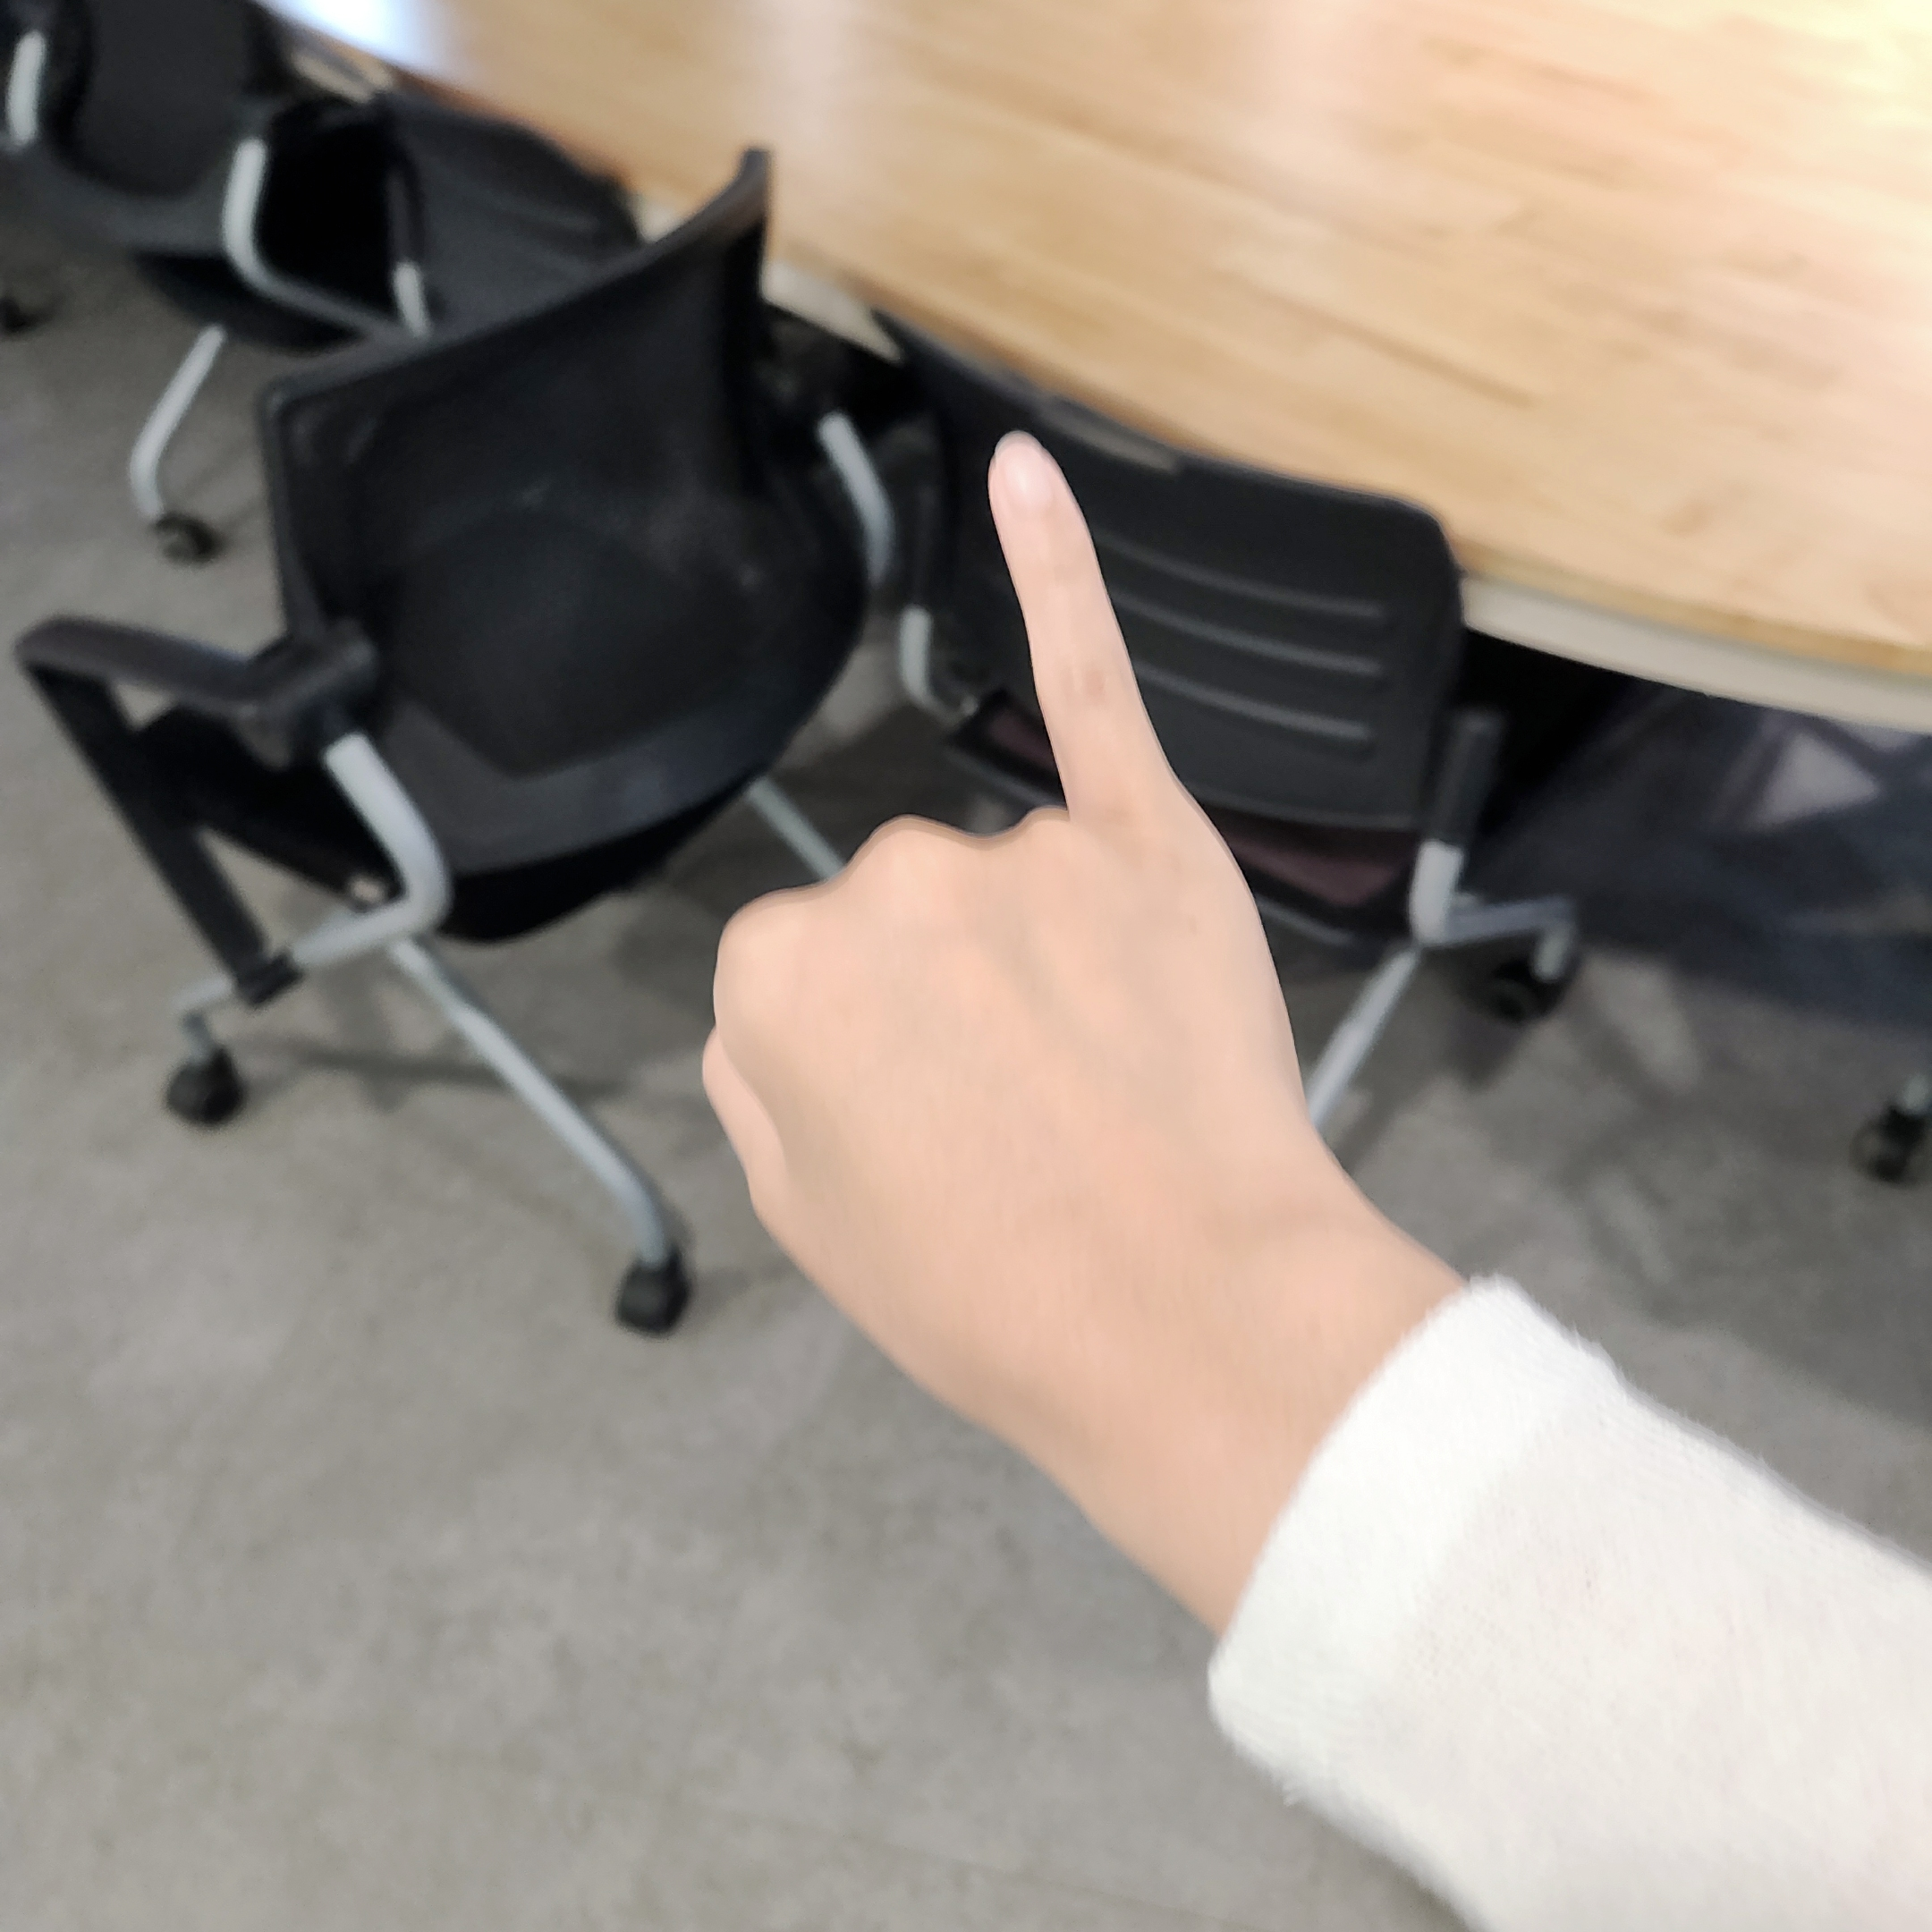fine: (695, 433, 1309, 1375)
